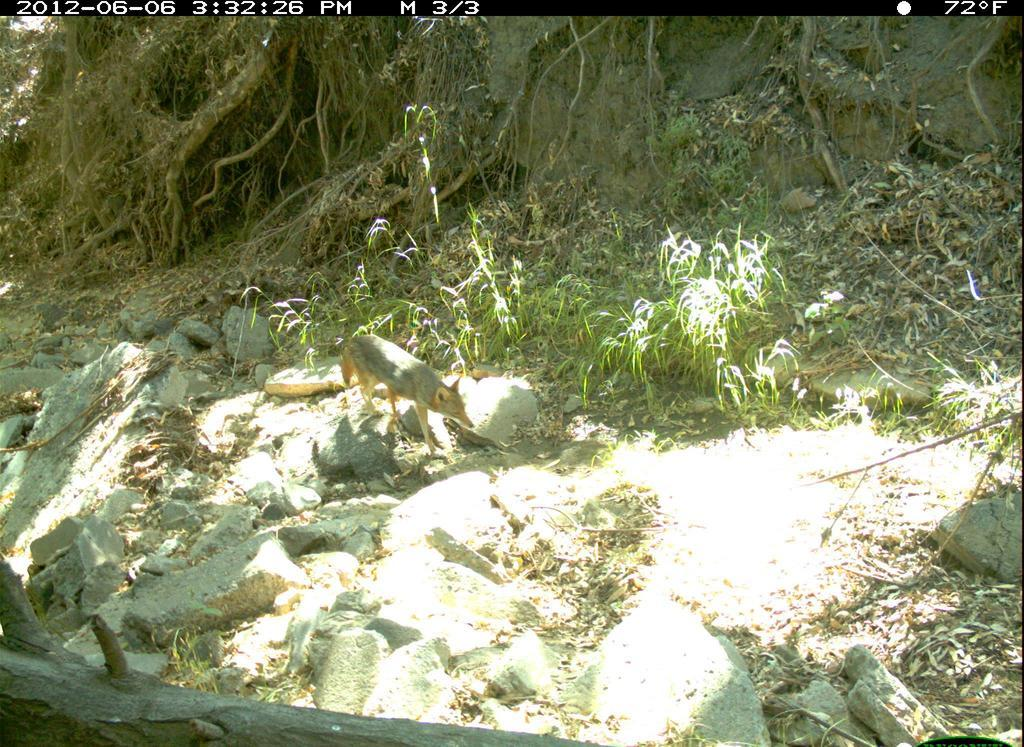coyote: (330, 325, 481, 466)
